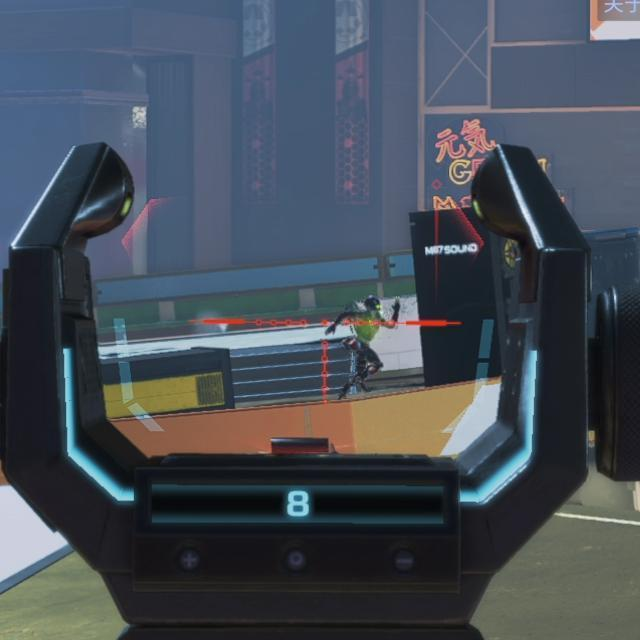avatar: (335, 293, 386, 402)
